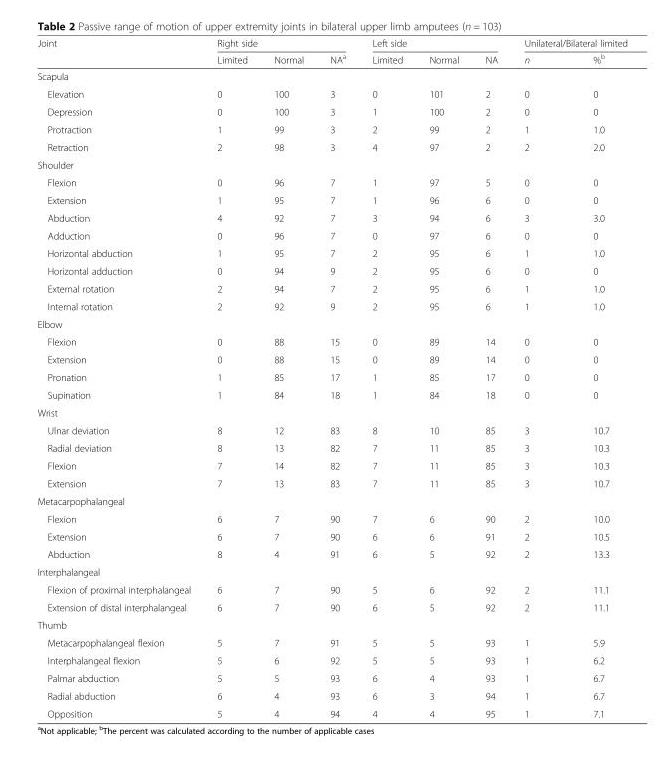table: (36, 37, 627, 718)
table column: (36, 37, 203, 718), (560, 37, 627, 718), (203, 37, 260, 718), (358, 37, 415, 718), (260, 37, 316, 718), (415, 37, 471, 718), (510, 37, 560, 718), (316, 37, 358, 718), (471, 37, 510, 718)
table column header: (36, 37, 627, 67)
table projected row header: (36, 155, 627, 173), (36, 314, 627, 332), (36, 403, 627, 421), (36, 562, 627, 580), (36, 615, 627, 633), (36, 67, 627, 84), (36, 492, 627, 509)
table row: (36, 84, 627, 102), (36, 102, 627, 120), (36, 137, 627, 155), (36, 155, 627, 173), (36, 173, 627, 191), (36, 208, 627, 226), (36, 226, 627, 244), (36, 261, 627, 279), (36, 279, 627, 297), (36, 314, 627, 332), (36, 332, 627, 350), (36, 350, 627, 368), (36, 385, 627, 403), (36, 403, 627, 421), (36, 438, 627, 456), (36, 456, 627, 474), (36, 474, 627, 492), (36, 509, 627, 527), (36, 527, 627, 545), (36, 562, 627, 580), (36, 580, 627, 598), (36, 615, 627, 633), (36, 633, 627, 651), (36, 651, 627, 669), (36, 686, 627, 704), (36, 50, 627, 67), (36, 67, 627, 84), (36, 120, 627, 137), (36, 191, 627, 208), (36, 244, 627, 261), (36, 297, 627, 314), (36, 368, 627, 385), (36, 421, 627, 438), (36, 492, 627, 509), (36, 545, 627, 562), (36, 598, 627, 615), (36, 669, 627, 686), (36, 704, 627, 718), (36, 37, 627, 50)
table spanning cell: (36, 37, 203, 67), (203, 37, 358, 50), (358, 37, 510, 50), (510, 37, 627, 50)
